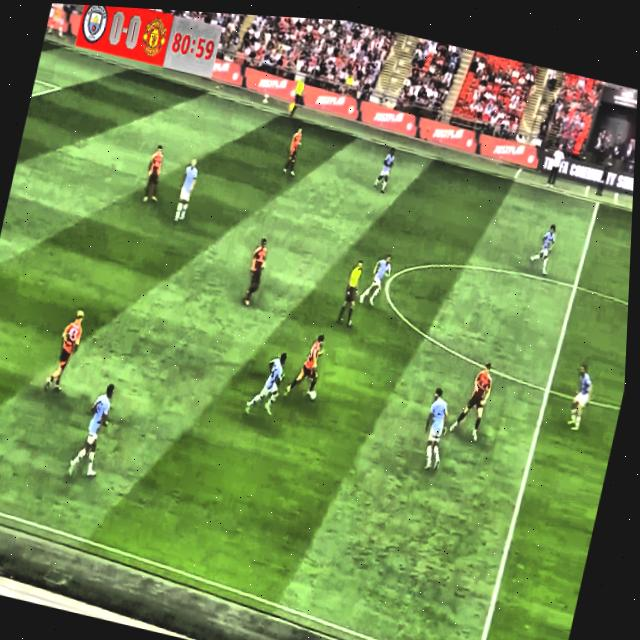ball: (307, 383, 322, 406)
players: (64, 378, 120, 492), (38, 298, 88, 404), (413, 376, 464, 479), (447, 351, 499, 445), (239, 338, 290, 422), (558, 357, 605, 443), (285, 318, 332, 402), (238, 231, 274, 315), (169, 156, 205, 234), (359, 244, 395, 315), (524, 218, 562, 284), (140, 139, 174, 212), (371, 134, 405, 201), (280, 119, 307, 178)
refree: (332, 254, 366, 339), (282, 70, 310, 128)
